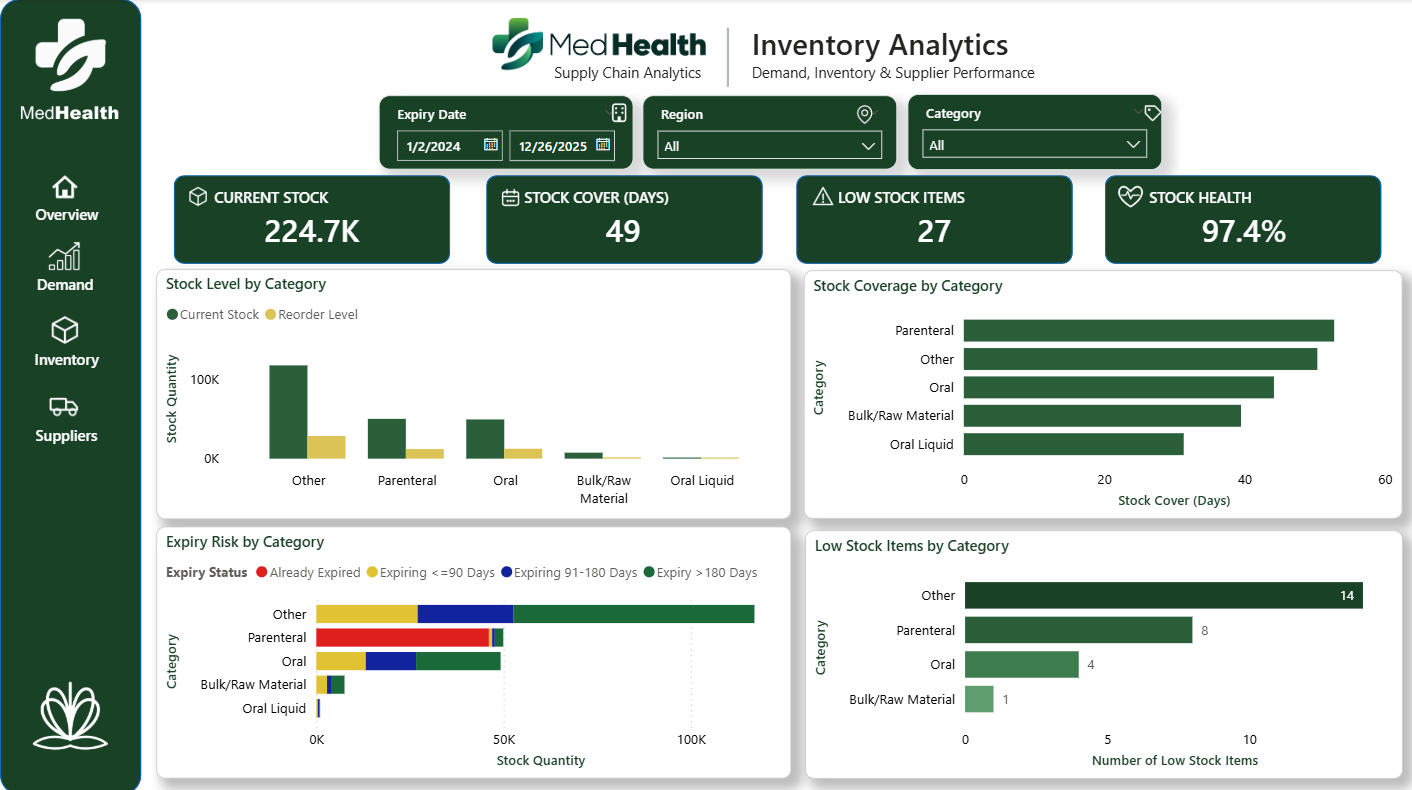

What the dashboard file says about the page in this screenshot:
{"tool":"powerbi","page":{"name":"Inventory Analytics","canvas":[1280,720],"ordinal":2},"visuals":[{"type":"shape","box":[0,0,127.9,719.8],"z":0},{"type":"image","box":[424.4,0,234.9,80.2],"z":0,"group":"g1"},{"type":"image","box":[34.5,143.5,50,52.3],"z":0,"group":"g2"},{"type":"image","box":[23.3,0,81.4,101.2],"z":1000},{"type":"shape","box":[624.4,25.6,68.6,53.5],"z":1000,"group":"g1"},{"type":"textbox","box":[27.3,180.9,69.9,31.9],"z":1000,"group":"g2"},{"type":"textbox","box":[675.6,17.4,268.6,46.5],"z":2000,"group":"g1"},{"type":"slicer","fields":{"Values":["inventory_stock.Expiry_Date"]},"box":[343,87.2,230.2,67.4],"z":2000},{"type":"image","box":[34.5,206.3,50,52.3],"z":2000,"group":"g2"},{"type":"textbox","box":[675.6,52.3,290.7,30.2],"z":3000,"group":"g1"},{"type":"image","box":[7,80.2,134.9,47.7],"z":3000},{"type":"textbox","box":[28.6,244.7,66.2,31.9],"z":3000,"group":"g2"},{"type":"textbox","box":[496.5,52.3,153.5,30.2],"z":4000,"group":"g1"},{"type":"slicer","fields":{"Values":["supplier_procurement.Region"]},"box":[581.4,87.2,230.2,67.4],"z":4000},{"type":"image","box":[34.5,272.6,50,52.3],"z":4000,"group":"g2"},{"type":"slicer","fields":{"Values":["inventory_stock.Category"]},"box":[820.9,86,230.2,68.6],"z":5000},{"type":"textbox","box":[23,312.1,77.3,28.2],"z":5000,"group":"g2"},{"type":"image","box":[539.5,82.6,41.9,38.4],"z":6000},{"type":"image","box":[34.5,338.8,50,52.3],"z":6000,"group":"g2"},{"type":"textbox","box":[27.1,380.8,72.4,30.7],"z":7000,"group":"g2"},{"type":"image","box":[0,600,127.9,119.8],"z":7000},{"type":"image","box":[766.3,87.2,31.4,33.7],"z":8000},{"type":"group","id":"g1","title":"Group 1","box":[424.4,0,541.9,82.6],"z":9000},{"type":"image","box":[1020.9,84.9,43,36],"z":10000},{"type":"shape","box":[157,159.3,250,80.2],"z":11000},{"type":"shape","box":[439.5,159.3,250,80.2],"z":12000},{"type":"shape","box":[719.8,159.3,250,80.2],"z":13000},{"type":"shape","box":[1000,159.3,250,80.2],"z":14000},{"type":"card","title":"TOTAL SALES","fields":{"Values":["inventory_stock.Current Stock"]},"box":[157,172.1,250,76.7],"z":15000},{"type":"textbox","box":[188.4,165.1,133.7,27.9],"z":16000},{"type":"card","title":"TOTAL SALES","fields":{"Values":["inventory_stock.Stock Cover (Days)"]},"box":[438.4,172.1,250,76.7],"z":17000},{"type":"textbox","box":[469.8,165.1,154.7,27.9],"z":18000},{"type":"card","title":"TOTAL SALES","fields":{"Values":["inventory_stock.Low Stock Items"]},"box":[719.8,172.1,250,76.7],"z":19000},{"type":"textbox","box":[753.5,165.1,136,27.9],"z":20000},{"type":"card","title":"TOTAL SALES","fields":{"Values":["inventory_stock.Stock Health"]},"box":[1001.2,172.1,250,76.7],"z":21000},{"type":"textbox","box":[1034.9,165.1,138.4,27.9],"z":22000},{"type":"clusteredColumnChart","title":"Stock Level by Category","fields":{"Category":["inventory_stock.Category"],"Y":["inventory_stock.Current Stock","inventory_stock.Reorder Level"]},"box":[141.9,244.2,574.4,226.7],"z":23000},{"type":"image","box":[157,160.5,44.2,36],"z":24000},{"type":"image","box":[439.5,160.5,44.2,36],"z":25000},{"type":"image","box":[722.1,160.5,44.2,36],"z":26000},{"type":"image","box":[1001.2,157,44.2,44.2],"z":27000},{"type":"clusteredBarChart","title":"Stock Coverage by Category","fields":{"Category":["inventory_stock.Category"],"Y":["inventory_stock.Stock Cover (Days)"]},"box":[726.7,245.3,541.9,224.4],"z":28000},{"type":"barChart","title":"Expiry Risk by Category","fields":{"Category":["inventory_stock.Category"],"Series":["inventory_stock.Expiry Status"],"Y":["inventory_stock.Current Stock"]},"box":[141.9,476.7,574.4,227.9],"z":29000},{"type":"clusteredBarChart","title":"Low Stock Items by Category","fields":{"Category":["inventory_stock.Category"],"Y":["inventory_stock.Low Stock Items"]},"box":[727.9,480.2,540.7,224.4],"z":30000},{"type":"group","id":"g2","title":"Group 2","box":[23,143.5,77.3,268],"z":31000},{"type":"actionButton","box":[12.9,149.4,100,61.2],"z":32000},{"type":"actionButton","box":[11.8,210.6,100,62.4],"z":33000},{"type":"actionButton","box":[12.9,276.5,100,63.5],"z":34000},{"type":"actionButton","box":[9.4,350.6,100,61.2],"z":35000}]}

Visuals, with their boxes on the page's 1280x720 design canvas (x1, y1, x2, y2). These are canvas units, not pixel positions in the 1412x790 screenshot, which may show the page scaled, cropped or inside an application window:
shape: pyautogui.locateOnScreen(0, 0, 128, 720)
image: pyautogui.locateOnScreen(424, 0, 659, 80)
image: pyautogui.locateOnScreen(34, 144, 84, 196)
image: pyautogui.locateOnScreen(23, 0, 105, 101)
shape: pyautogui.locateOnScreen(624, 26, 693, 79)
textbox: pyautogui.locateOnScreen(27, 181, 97, 213)
textbox: pyautogui.locateOnScreen(676, 17, 944, 64)
slicer - inventory_stock.Expiry_Date: pyautogui.locateOnScreen(343, 87, 573, 155)
image: pyautogui.locateOnScreen(34, 206, 84, 259)
textbox: pyautogui.locateOnScreen(676, 52, 966, 82)
image: pyautogui.locateOnScreen(7, 80, 142, 128)
textbox: pyautogui.locateOnScreen(29, 245, 95, 277)
textbox: pyautogui.locateOnScreen(496, 52, 650, 82)
slicer - supplier_procurement.Region: pyautogui.locateOnScreen(581, 87, 812, 155)
image: pyautogui.locateOnScreen(34, 273, 84, 325)
slicer - inventory_stock.Category: pyautogui.locateOnScreen(821, 86, 1051, 155)
textbox: pyautogui.locateOnScreen(23, 312, 100, 340)
image: pyautogui.locateOnScreen(540, 83, 581, 121)
image: pyautogui.locateOnScreen(34, 339, 84, 391)
textbox: pyautogui.locateOnScreen(27, 381, 100, 412)
image: pyautogui.locateOnScreen(0, 600, 128, 720)
image: pyautogui.locateOnScreen(766, 87, 798, 121)
"Group 1" group: pyautogui.locateOnScreen(424, 0, 966, 83)
image: pyautogui.locateOnScreen(1021, 85, 1064, 121)
shape: pyautogui.locateOnScreen(157, 159, 407, 240)
shape: pyautogui.locateOnScreen(440, 159, 690, 240)
shape: pyautogui.locateOnScreen(720, 159, 970, 240)
shape: pyautogui.locateOnScreen(1000, 159, 1250, 240)
"TOTAL SALES" card: pyautogui.locateOnScreen(157, 172, 407, 249)
textbox: pyautogui.locateOnScreen(188, 165, 322, 193)
"TOTAL SALES" card: pyautogui.locateOnScreen(438, 172, 688, 249)
textbox: pyautogui.locateOnScreen(470, 165, 624, 193)
"TOTAL SALES" card: pyautogui.locateOnScreen(720, 172, 970, 249)
textbox: pyautogui.locateOnScreen(754, 165, 890, 193)
"TOTAL SALES" card: pyautogui.locateOnScreen(1001, 172, 1251, 249)
textbox: pyautogui.locateOnScreen(1035, 165, 1173, 193)
"Stock Level by Category" clusteredColumnChart: pyautogui.locateOnScreen(142, 244, 716, 471)
image: pyautogui.locateOnScreen(157, 160, 201, 196)
image: pyautogui.locateOnScreen(440, 160, 484, 196)
image: pyautogui.locateOnScreen(722, 160, 766, 196)
image: pyautogui.locateOnScreen(1001, 157, 1045, 201)
"Stock Coverage by Category" clusteredBarChart: pyautogui.locateOnScreen(727, 245, 1269, 470)
"Expiry Risk by Category" barChart: pyautogui.locateOnScreen(142, 477, 716, 705)
"Low Stock Items by Category" clusteredBarChart: pyautogui.locateOnScreen(728, 480, 1269, 705)
"Group 2" group: pyautogui.locateOnScreen(23, 144, 100, 412)
actionButton: pyautogui.locateOnScreen(13, 149, 113, 211)
actionButton: pyautogui.locateOnScreen(12, 211, 112, 273)
actionButton: pyautogui.locateOnScreen(13, 276, 113, 340)
actionButton: pyautogui.locateOnScreen(9, 351, 109, 412)
